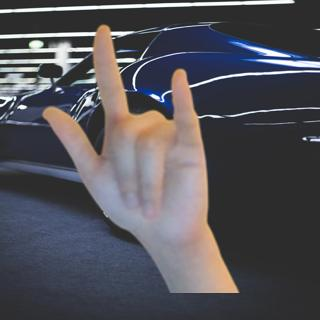ILY: (32, 20, 215, 249)
